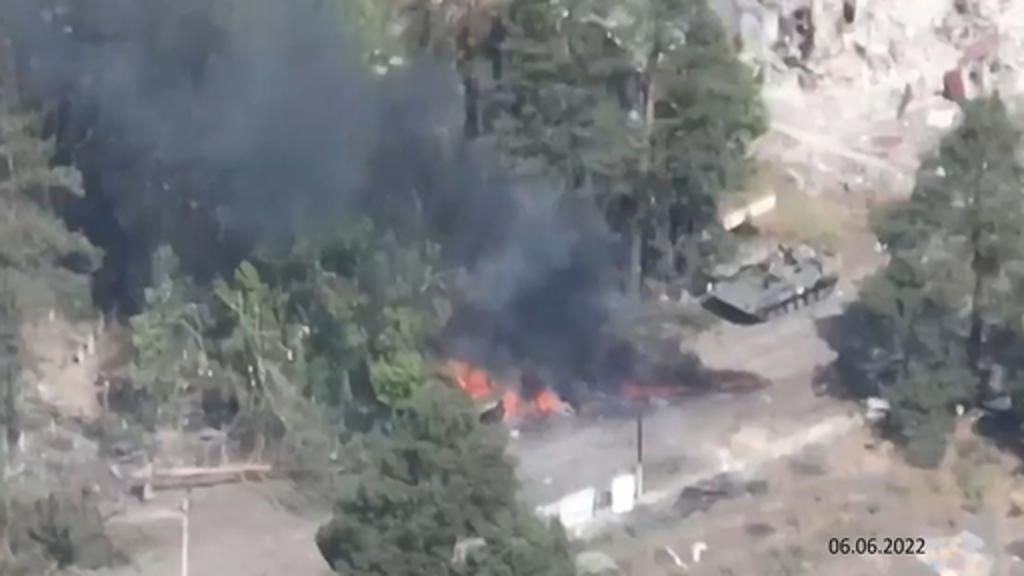APC-IFV: (698, 226, 848, 332)
